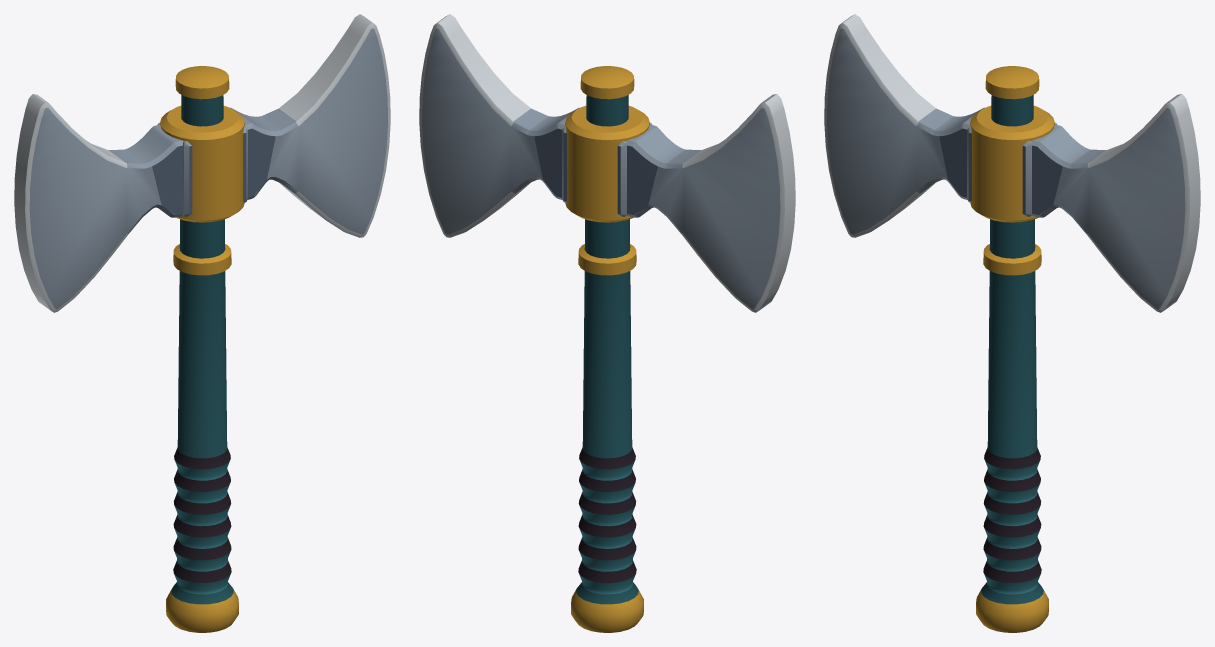
The model's file is Axe_19.glb.
The picture shows the model from 3 angles, left to right: view 1: azimuth 30°, elevation 25°; view 2: azimuth 150°, elevation 25°; view 3: azimuth 330°, elevation 25°; orthographic projection.
Visible parts, largest first — view 1: Axe_19; view 2: Axe_19; view 3: Axe_19.
Part boxes in pixels (x1,y1,x2,y2): Axe_19: (14, 14, 390, 632); Axe_19: (419, 14, 795, 632); Axe_19: (824, 14, 1200, 632).
Size of the model in its own units: 3.23 by 4.74 by 0.648.
